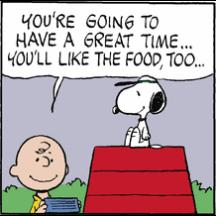charlie: (9, 135, 82, 215)
snoopy: (112, 74, 168, 150)
